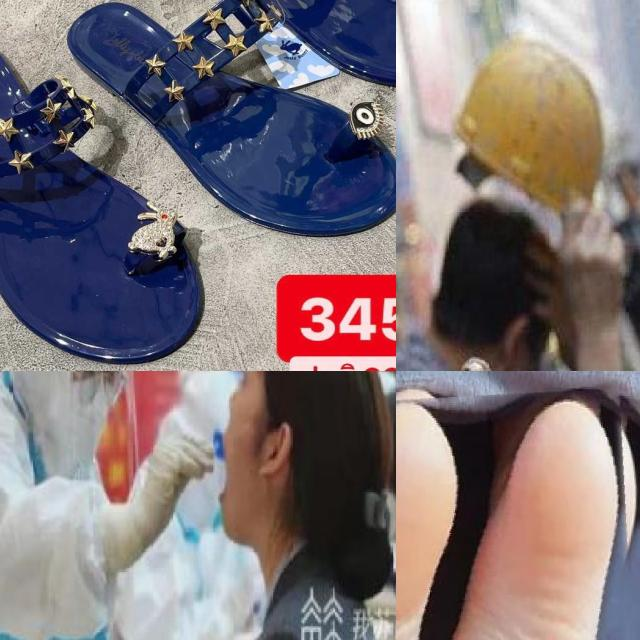Barefoots: (396, 381, 640, 640), (396, 371, 489, 640)
Sandals: (70, 0, 396, 259), (0, 17, 208, 371), (153, 0, 396, 94)
face_mask: (52, 371, 123, 469)
face_nomask: (187, 371, 276, 538)
glasses: (64, 371, 133, 408)
hand_glove: (124, 411, 209, 514)
hand_noglove: (554, 204, 628, 324), (525, 234, 583, 363)
head_helmet: (444, 39, 624, 203)
head_nohelmet: (466, 188, 562, 260)
person: (396, 0, 569, 371)
